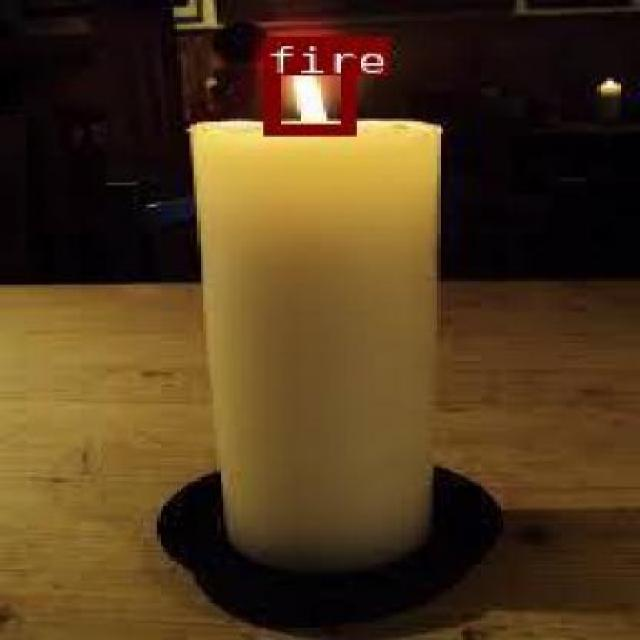Fire: (292, 72, 331, 124)
